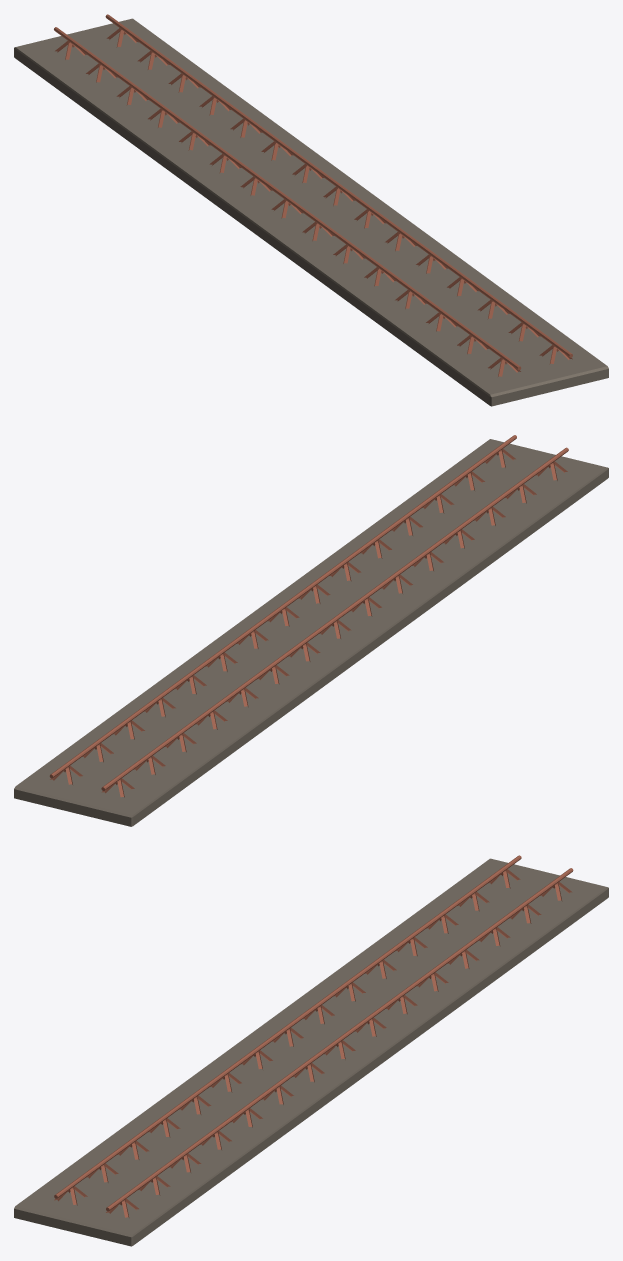
3 views of the same model, one above another, from view 1: azimuth 30°, elevation 25°; view 2: azimuth 150°, elevation 25°; view 3: azimuth 330°, elevation 25° (orthographic).
Visible parts, largest first — view 1: Decke 4; view 2: Decke 4; view 3: Decke 4.
Boxes of the visible parts, x1,y1,x2,y2 form: Decke 4: (14, 14, 608, 406); Decke 4: (14, 435, 608, 826); Decke 4: (14, 855, 608, 1246).
Bounding box in the file's own units: 0.6867 × 0.146 × 4.8.
